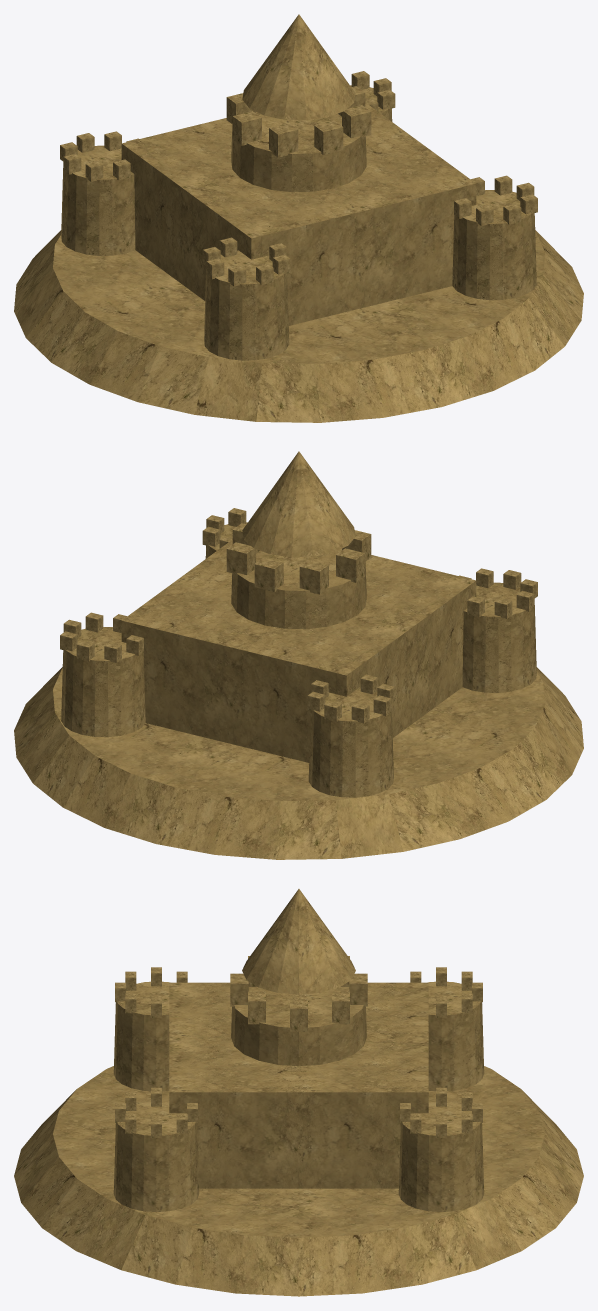
The model's file is sand_castle.glb.
The picture shows the model from 3 angles, top to bottom: view 1: azimuth 30°, elevation 25°; view 2: azimuth 150°, elevation 25°; view 3: azimuth 270°, elevation 25°; orthographic projection.
Visible parts, largest first — view 1: mound; view 2: mound; view 3: mound.
Boxes of the visible parts, left/top/right/bottom form: mound: left=14, top=14, right=583, bottom=422; mound: left=14, top=451, right=583, bottom=859; mound: left=14, top=889, right=583, bottom=1296.
Bounding box in the file's own units: 2.2 × 1.23 × 2.2.
Materials: 1 (1 with a texture image).
